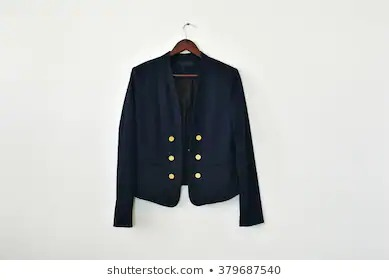F_M_suit jacket: (107, 43, 266, 230)
